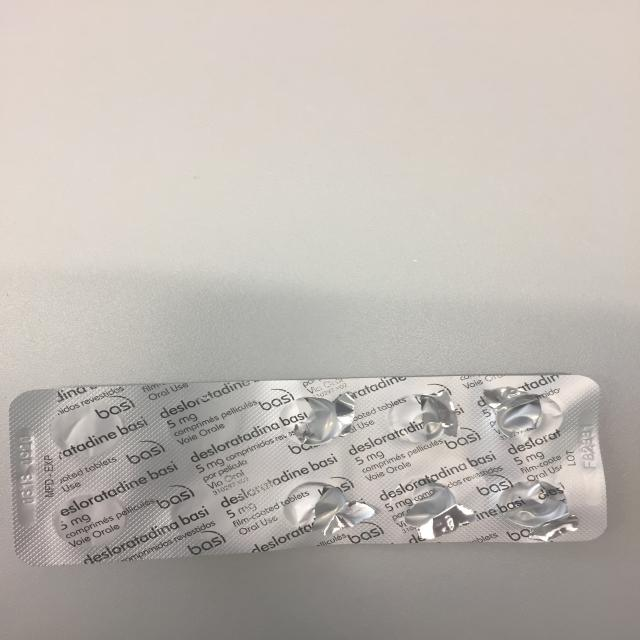Empty: (494, 477, 575, 538), (483, 388, 566, 446), (382, 478, 462, 534), (276, 393, 356, 448), (385, 393, 461, 447), (280, 480, 362, 530)
Pill: (167, 483, 252, 542), (45, 401, 131, 458), (50, 493, 131, 552), (160, 396, 238, 451)
